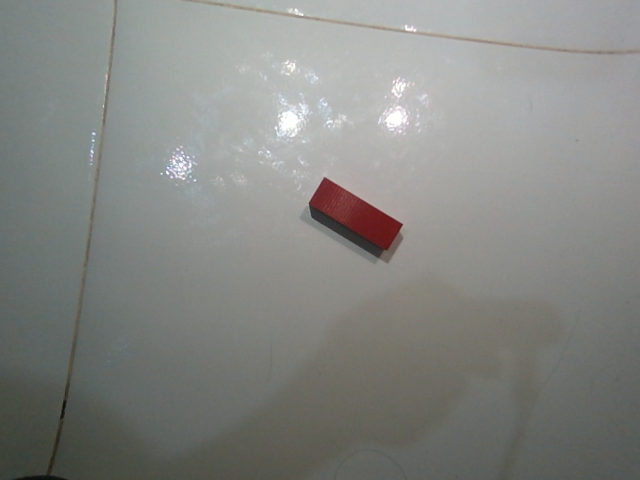Balok-Merah-Marun: (306, 176, 403, 250)
